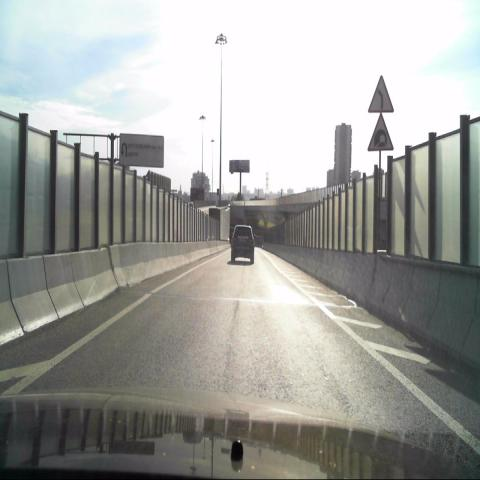1_11_1: (366, 73, 395, 113)
1_31: (366, 110, 393, 151)
